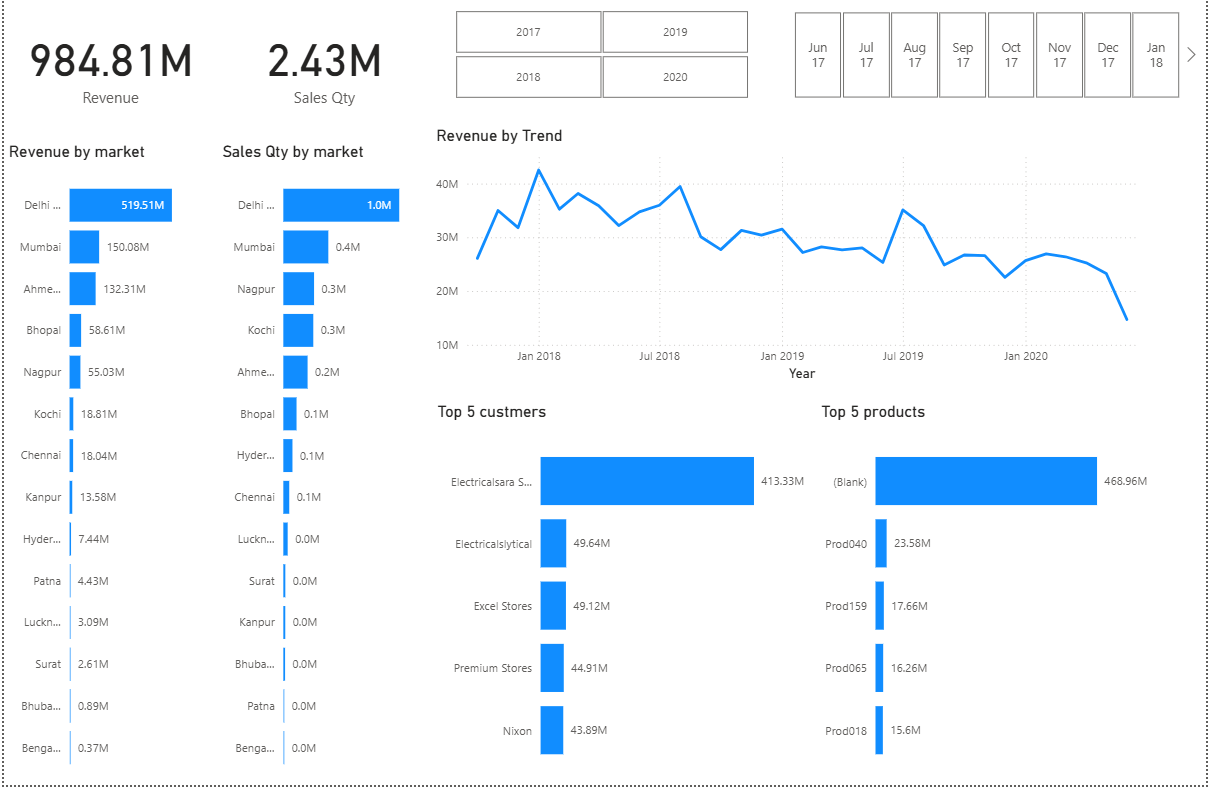

This screenshot's page, from the dashboard's own definition file:
{"tool":"powerbi","page":{"name":"Page 1","canvas":[1280,850],"ordinal":0},"visuals":[{"type":"card","fields":{"Values":["base_measure.Revenue"]},"box":[0,0,227.5,165.2],"z":0},{"type":"card","fields":{"Values":["base_measure.Sales Qty"]},"box":[227.5,0,227.5,165.2],"z":1000},{"type":"clusteredBarChart","title":"Revenue by market","fields":{"Category":["sales markets.markets_name"],"Y":["base_measure.Revenue"]},"box":[0,164.6,228.1,685.7],"z":2000},{"type":"clusteredBarChart","title":"Sales Qty by market","fields":{"Y":["base_measure.Sales Qty"],"Category":["sales markets.markets_name"]},"box":[228.1,164.6,226.6,685.7],"z":3000},{"type":"slicer","fields":{"Values":["sales date.cy_date"]},"box":[815.9,20.3,459.4,104.3],"z":4000},{"type":"slicer","fields":{"Values":["sales date.cy_date.Variation.Date Hierarchy.Year"]},"box":[455.1,18.8,360.9,105.8],"z":5000},{"type":"clusteredBarChart","title":"Top 5 custmers","fields":{"Y":["base_measure.Revenue"],"Category":["sales customers.custmer_name"]},"box":[456.2,441.7,408.5,408.5],"z":6000},{"type":"clusteredBarChart","title":"Top 5 products","fields":{"Y":["base_measure.Revenue"],"Category":["sales products.product_code"]},"box":[864.7,441.7,359.5,408.5],"z":7000},{"type":"lineChart","title":"Revenue by Trend","fields":{"Y":["base_measure.Revenue"],"Category":["sales date.cy_date.Variation.Date Hierarchy.Year","sales date.cy_date.Variation.Date Hierarchy.Quarter","sales date.cy_date.Variation.Date Hierarchy.Month","sales date.cy_date.Variation.Date Hierarchy.Day"]},"box":[454.7,147.2,769.5,277.2],"z":8000}]}

Visuals, with their boxes in screenshot pixels (x1, y1, x2, y2), scaled from the page's 1280x850 canvas onto the 1210x789 screenshot:
card - base_measure.Revenue: <region>0, 0, 215, 153</region>
card - base_measure.Sales Qty: <region>215, 0, 430, 153</region>
"Revenue by market" clusteredBarChart: <region>0, 153, 216, 788</region>
"Sales Qty by market" clusteredBarChart: <region>216, 153, 430, 788</region>
slicer - sales date.cy_date: <region>771, 19, 1206, 116</region>
slicer - sales date.cy_date.Variation.Date Hierarchy.Year: <region>430, 17, 771, 116</region>
"Top 5 custmers" clusteredBarChart: <region>431, 410, 817, 788</region>
"Top 5 products" clusteredBarChart: <region>817, 410, 1157, 788</region>
"Revenue by Trend" lineChart: <region>430, 137, 1157, 394</region>
